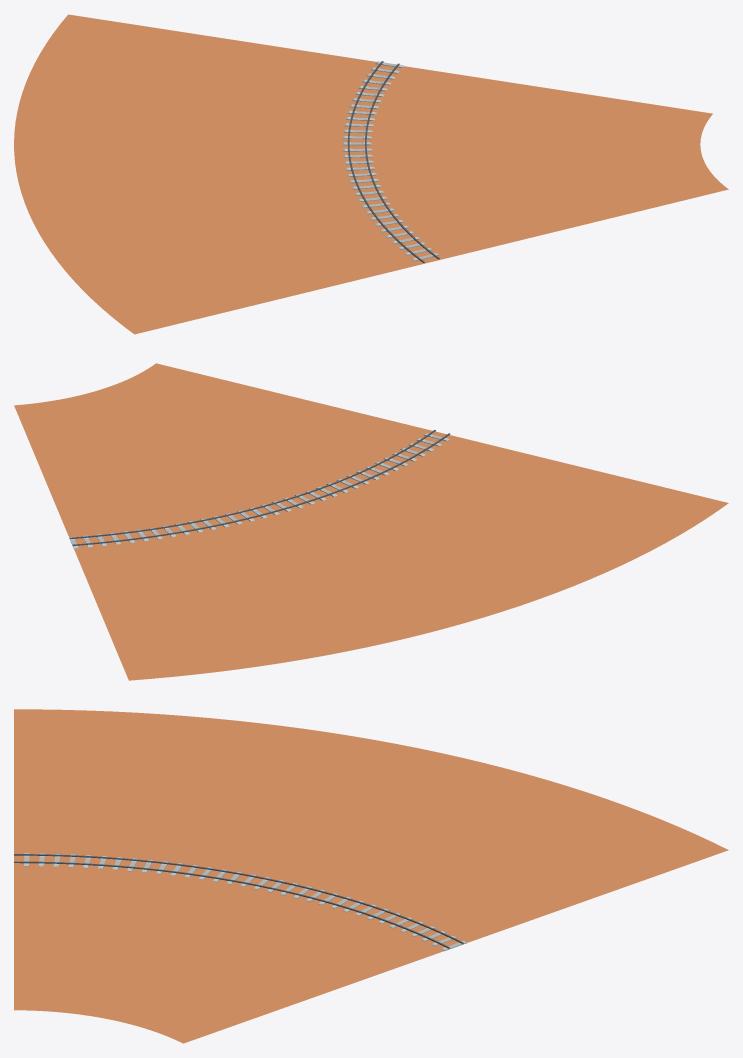
File: Wastelands_Road_L_50_001.fbx
The picture shows the model from 3 angles, top to bottom: view 1: azimuth 30°, elevation 25°; view 2: azimuth 150°, elevation 25°; view 3: azimuth 270°, elevation 25°; orthographic projection. The views are drawn at different scales.
Visible parts, largest first — view 1: Wastelands_Road_L_50_001, Wastelands_Road_L_50_001_Sleepers, Wastelands_Road_L_50_001_Rails; view 2: Wastelands_Road_L_50_001, Wastelands_Road_L_50_001_Sleepers, Wastelands_Road_L_50_001_Rails; view 3: Wastelands_Road_L_50_001, Wastelands_Road_L_50_001_Sleepers, Wastelands_Road_L_50_001_Rails.
Part boxes in pixels (x1,y1,x2,y2): Wastelands_Road_L_50_001: [14, 14, 728, 334]; Wastelands_Road_L_50_001_Sleepers: [342, 61, 439, 261]; Wastelands_Road_L_50_001_Rails: [347, 61, 439, 262]; Wastelands_Road_L_50_001: [14, 363, 728, 680]; Wastelands_Road_L_50_001_Sleepers: [69, 433, 449, 548]; Wastelands_Road_L_50_001_Rails: [70, 430, 450, 545]; Wastelands_Road_L_50_001: [14, 709, 728, 1043]; Wastelands_Road_L_50_001_Sleepers: [24, 853, 467, 950]; Wastelands_Road_L_50_001_Rails: [14, 854, 463, 948].
Bounding box in the file's own units: 77.76 × 0.1998 × 70.26.
